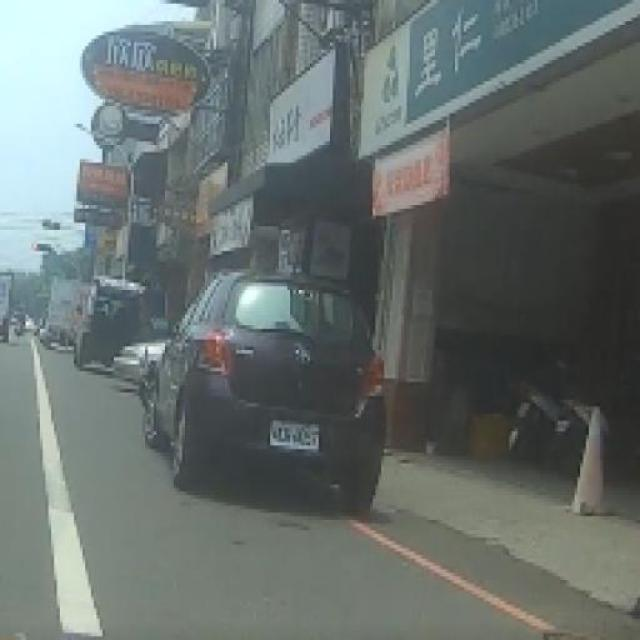illegalparking: (144, 270, 385, 514), (75, 276, 165, 368), (46, 276, 80, 345)
